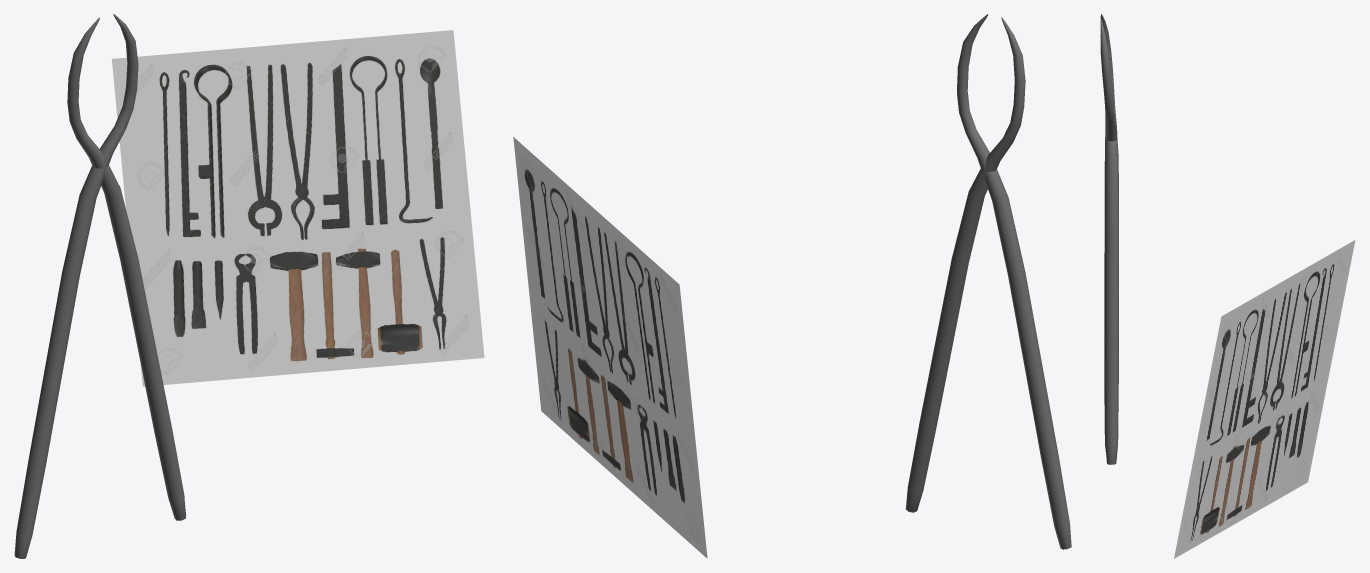
File: tongs.obj
3 renders of one model, left to right at view 1: azimuth 30°, elevation 25°; view 2: azimuth 150°, elevation 25°; view 3: azimuth 270°, elevation 25°, orthographic. The views are drawn at different scales.
Parts seen in each view (by area): view 1: s.0008, s.0023Mirrored, s.0023; view 2: s.0008, s.0023Mirrored, s.0023; view 3: s.0008, s.0023, s.0023Mirrored.
Part boxes in pixels (box(x1,y1,x2,y2)): s.0008: box(111, 30, 484, 386); s.0023Mirrored: box(14, 14, 138, 558); s.0023: box(67, 17, 186, 520); s.0008: box(513, 137, 707, 558); s.0023Mirrored: box(957, 14, 1071, 549); s.0023: box(905, 17, 1025, 512); s.0008: box(1174, 240, 1355, 558); s.0023: box(1100, 14, 1118, 464); s.0023Mirrored: box(1100, 20, 1118, 284).
Size of the model in its own units: 340 by 336 by 187.
2 materials, 1 textured.
